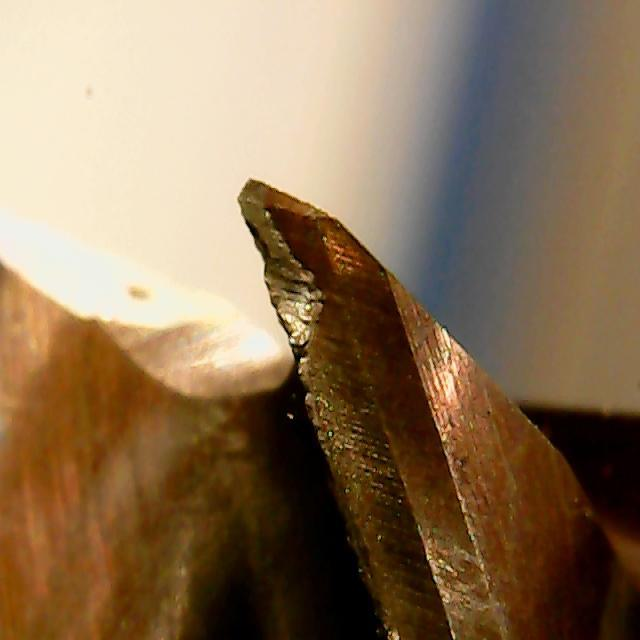Tool-wear-class-2: (211, 173, 404, 402)
